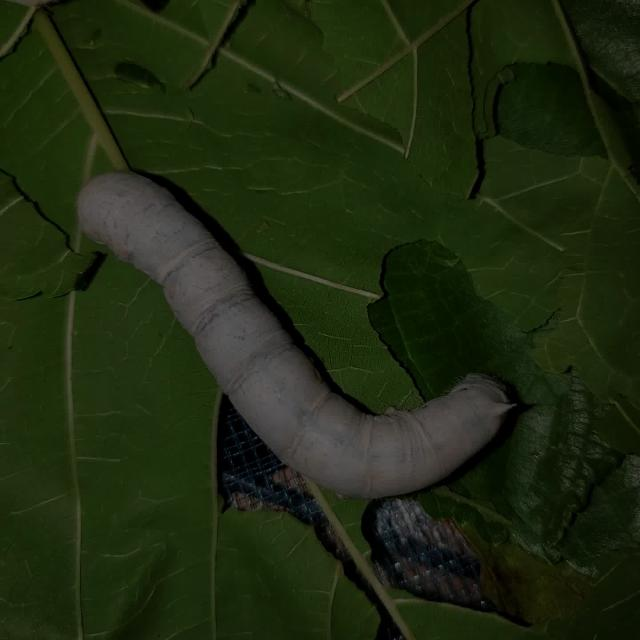Healthy: (73, 160, 519, 509)
